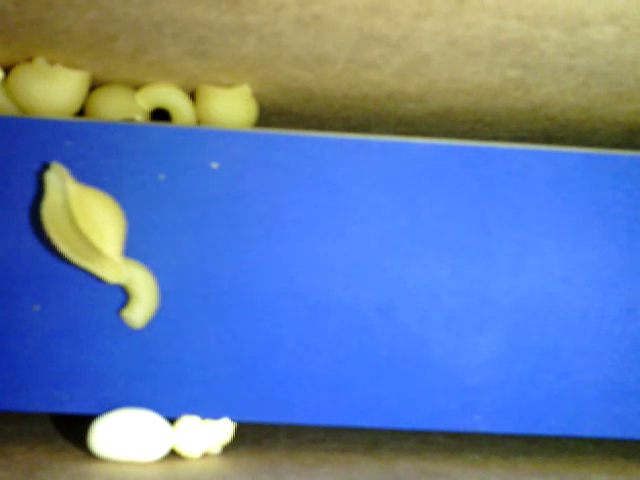elbow: (116, 256, 162, 330), (135, 81, 199, 129)
shell: (39, 158, 127, 283), (5, 54, 92, 119), (193, 82, 264, 130), (83, 82, 157, 123)
